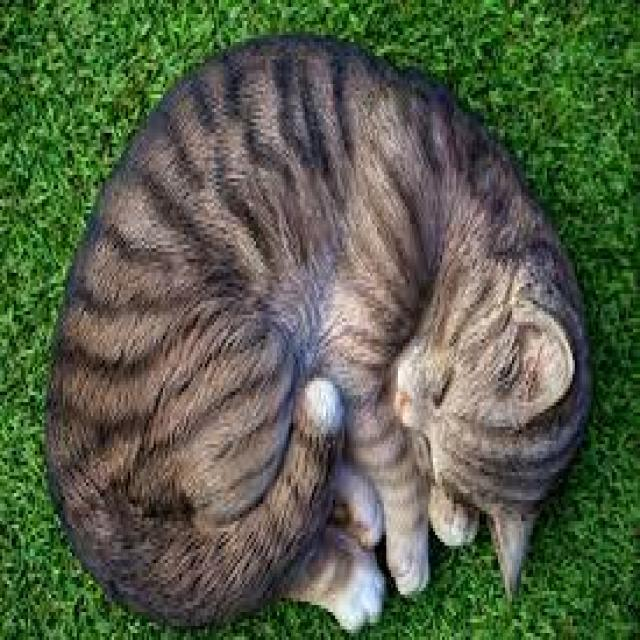Cat: (42, 30, 600, 635)
